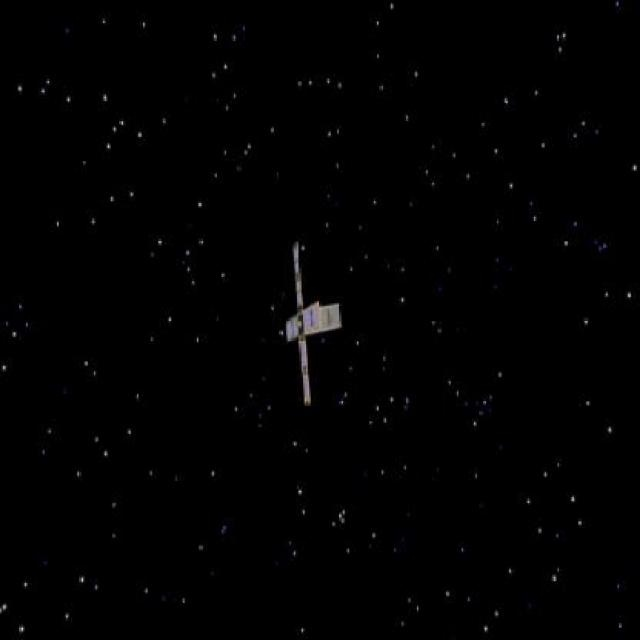medium_debris: (267, 232, 348, 409)
